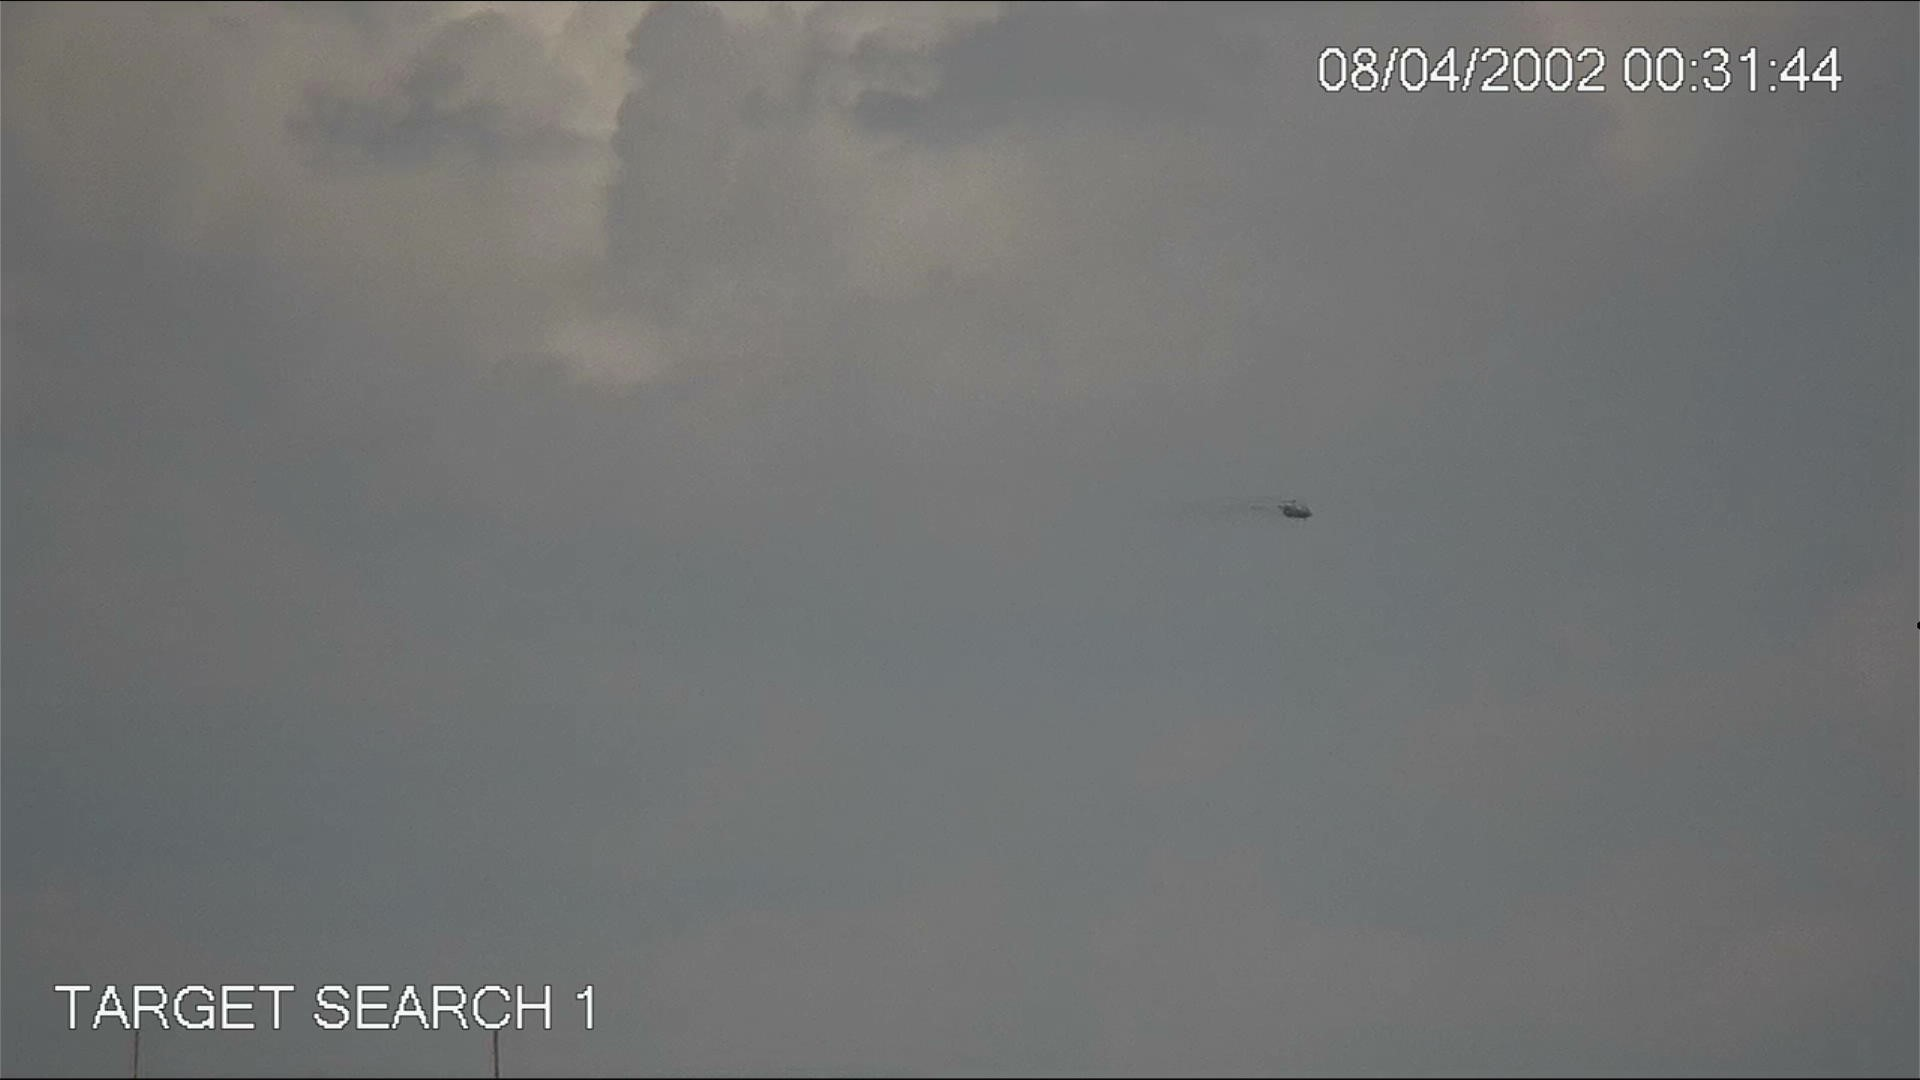SU_30: (1242, 493, 1317, 526)
